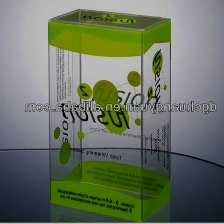plastic_box: (41, 2, 181, 224)
